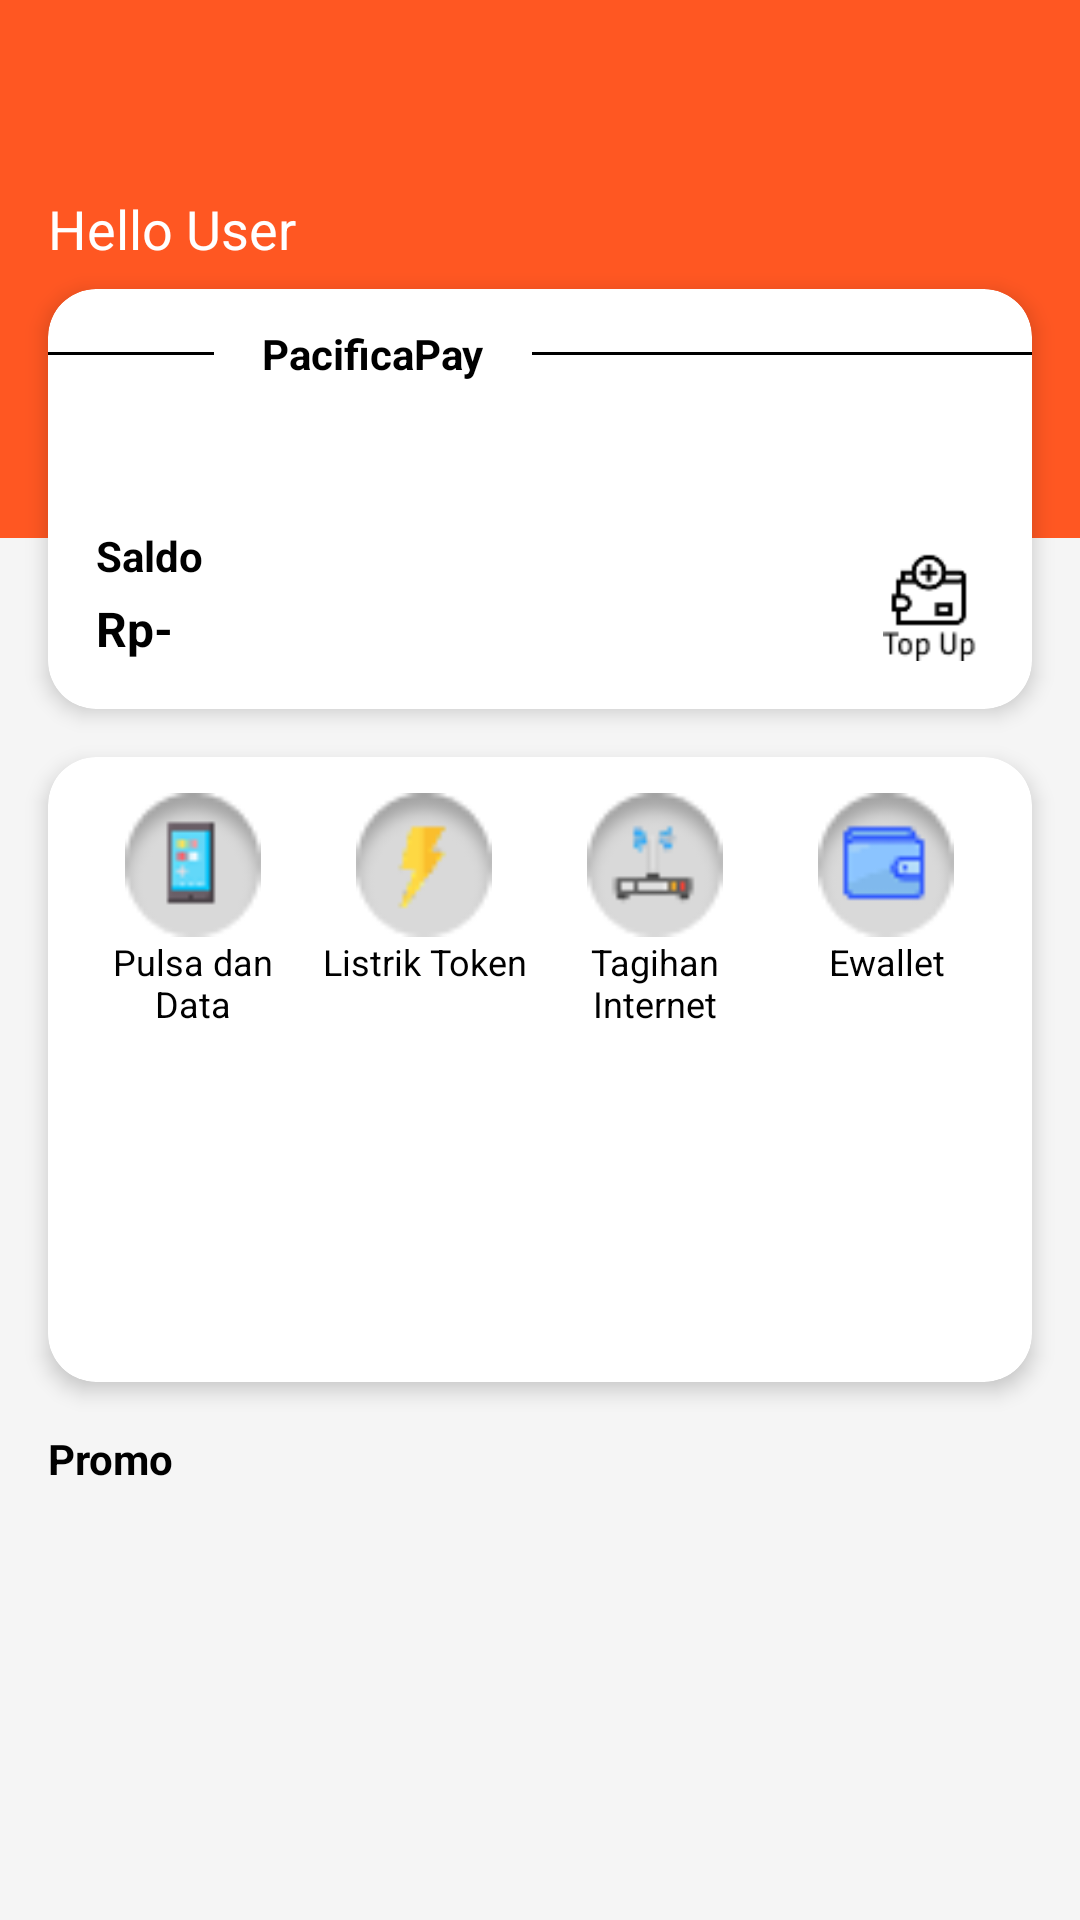

Screen size 1080w x 1920h. Icon name, then its box in pixels as (x1, y1, x2, y2):
wifi: (587, 793, 723, 937)
